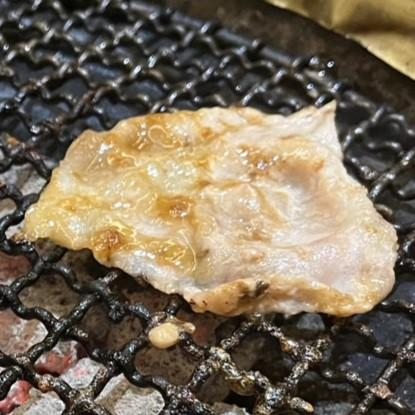Well-Cooked: (20, 103, 400, 319)
